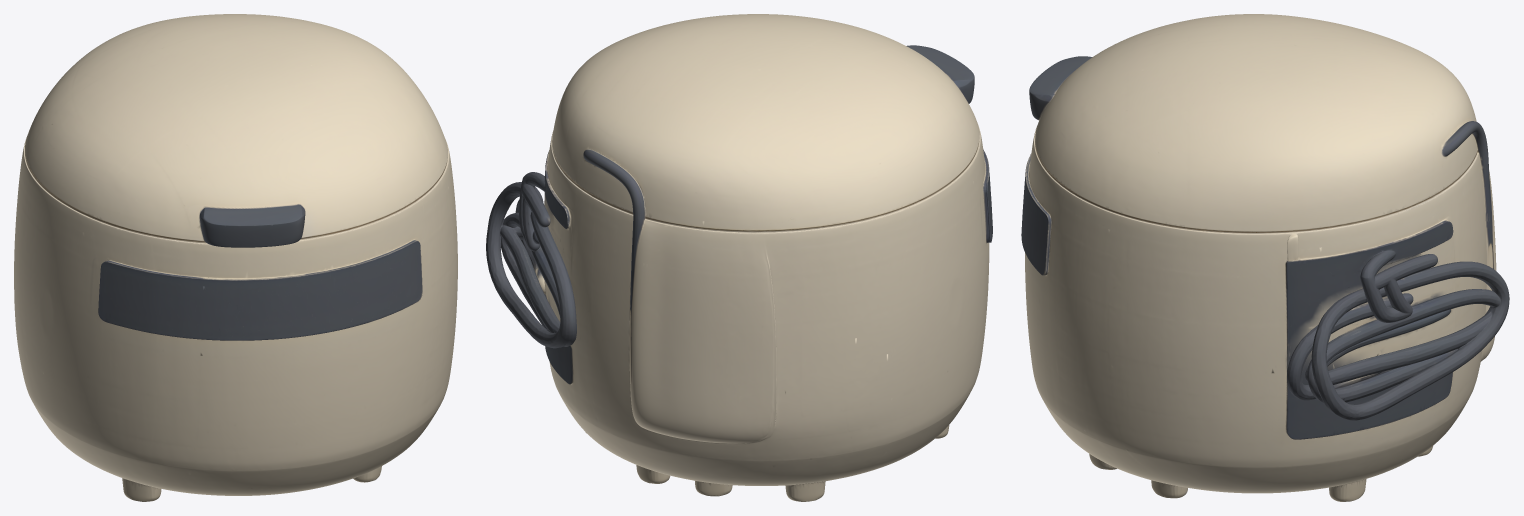
Rendered from rice_cooker__hunyuan.glb.
The picture shows the model from 3 angles, left to right: view 1: azimuth 30°, elevation 25°; view 2: azimuth 150°, elevation 25°; view 3: azimuth 270°, elevation 25°; orthographic projection. The views are drawn at different scales.
Parts seen in each view (by area): view 1: material; view 2: material; view 3: material.
Part boxes in pixels (box(x1,y1,x2,y2)): material: box(14, 14, 457, 501); material: box(486, 14, 992, 501); material: box(1021, 14, 1509, 501).
Bounding box in the file's own units: 1.01 × 0.8389 × 0.9641.
1 material, 1 textured.
